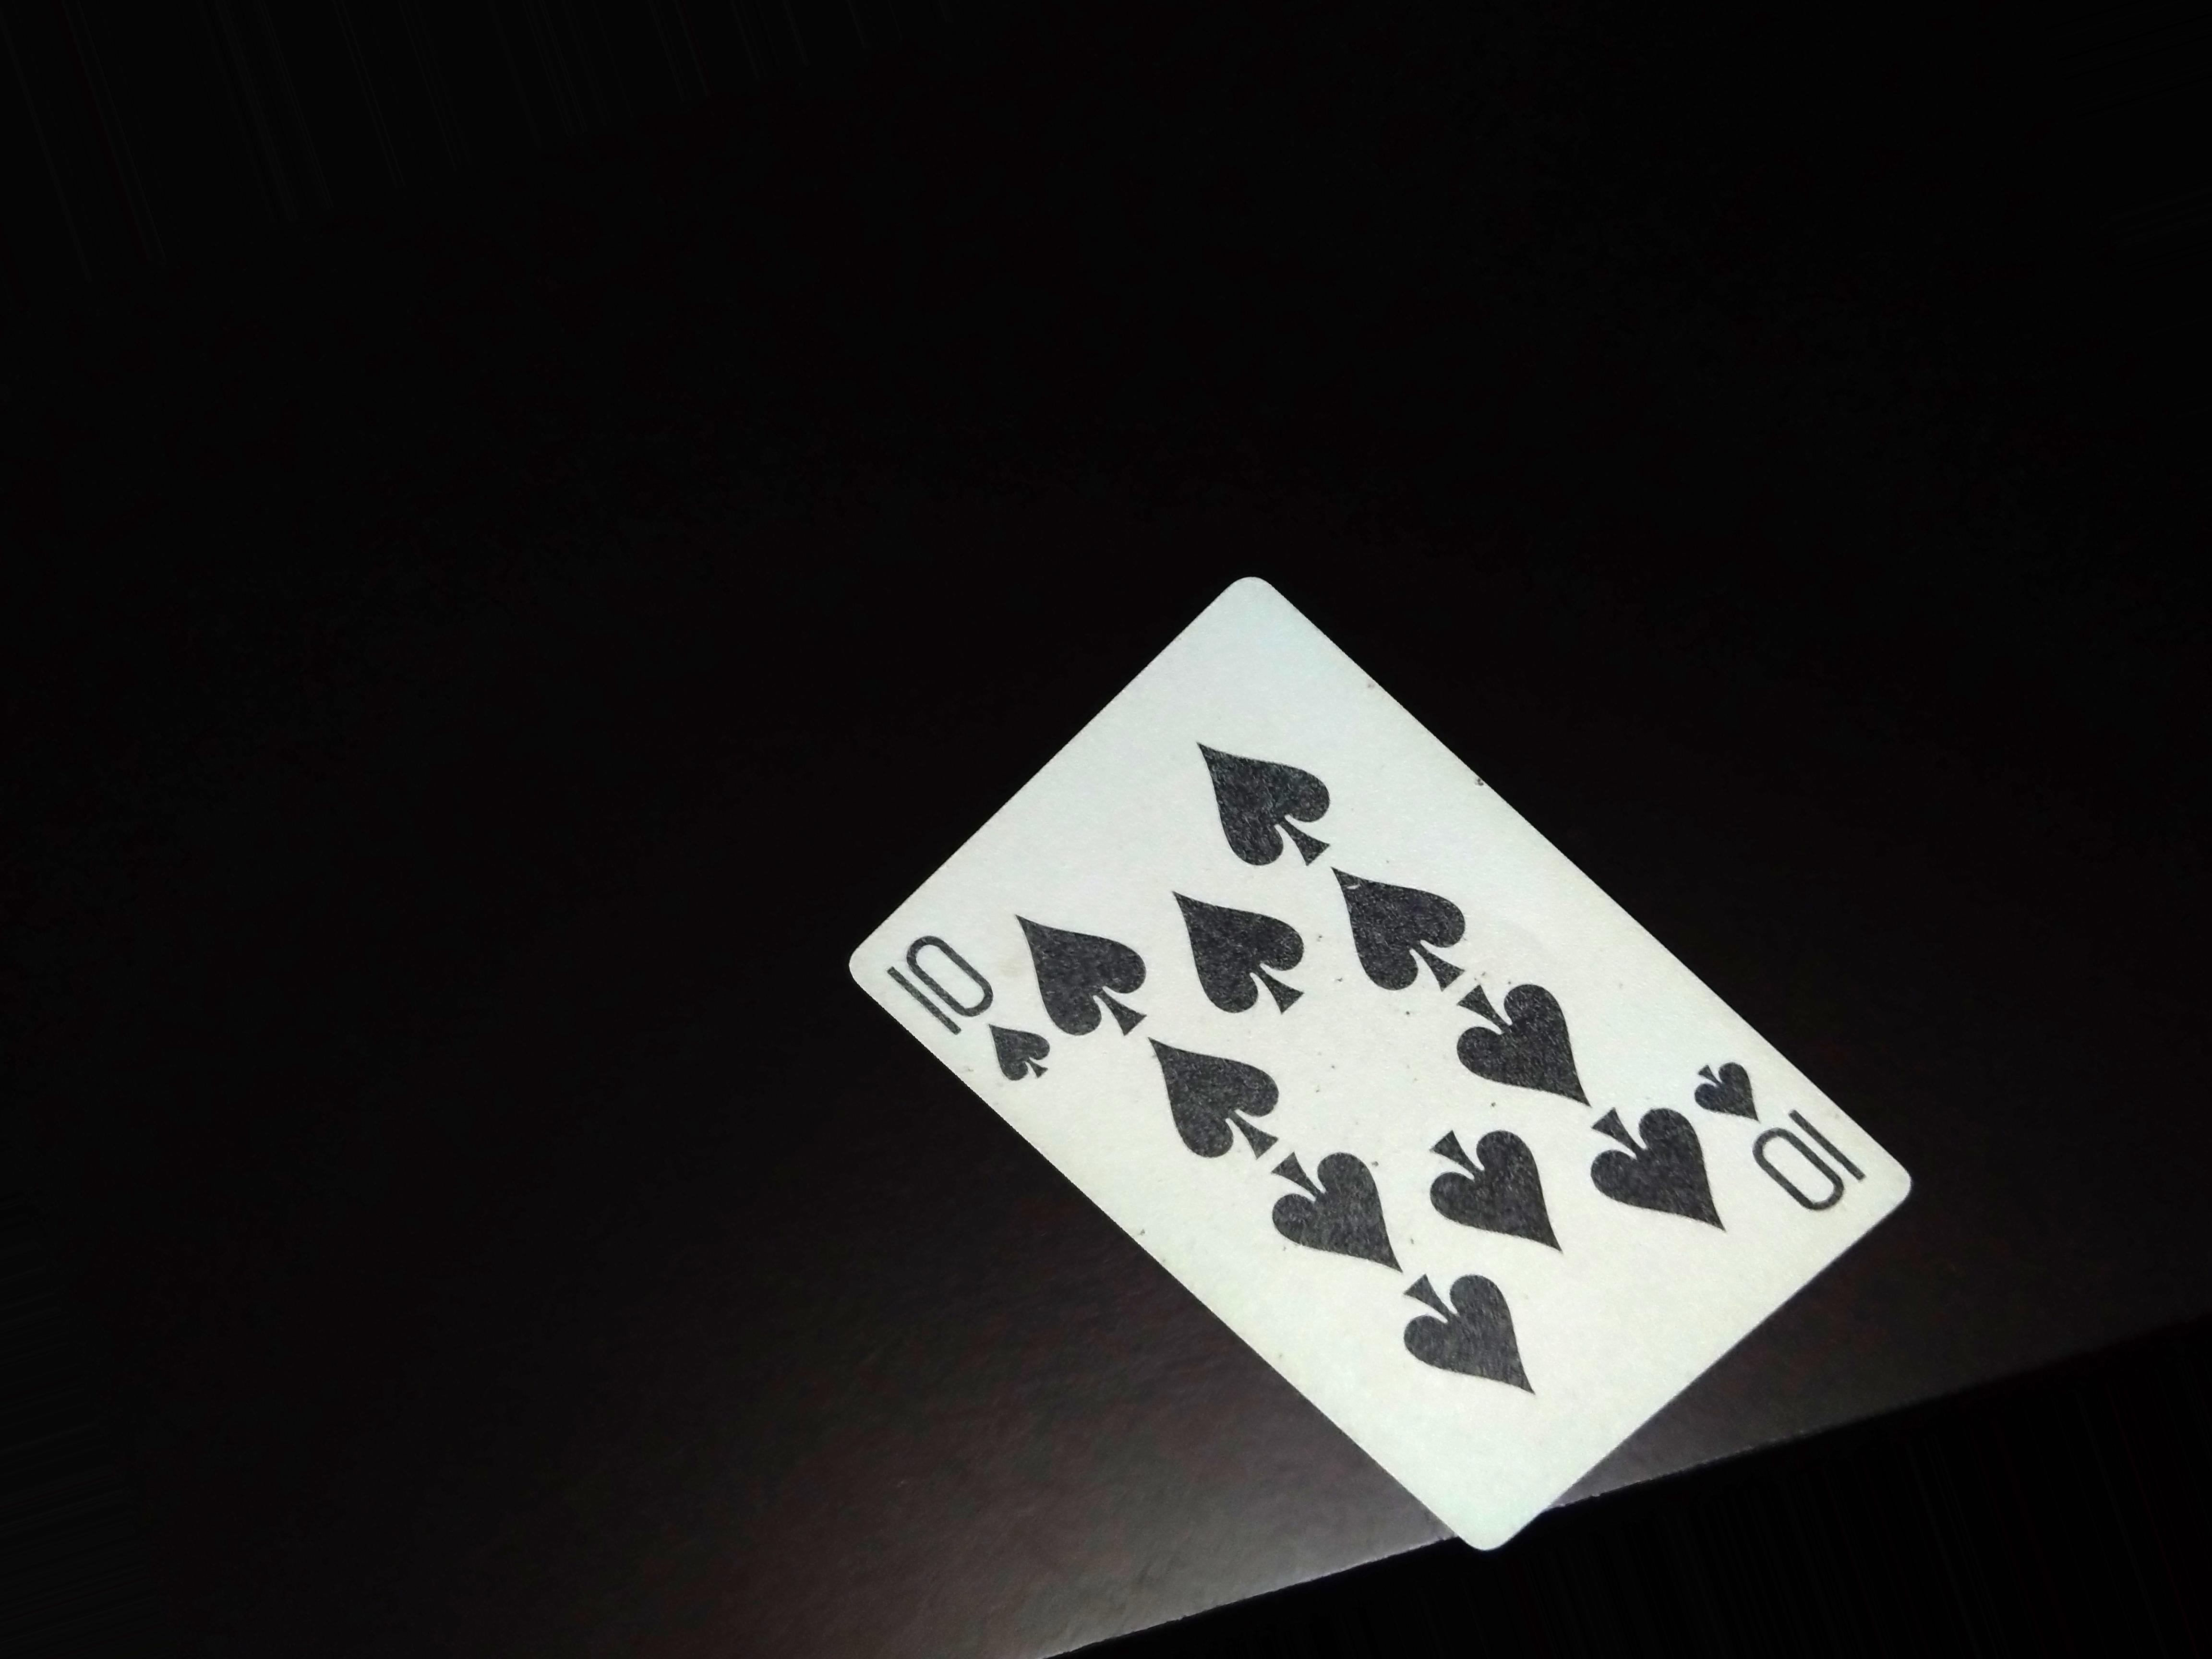10S: (883, 927, 1076, 1112)
